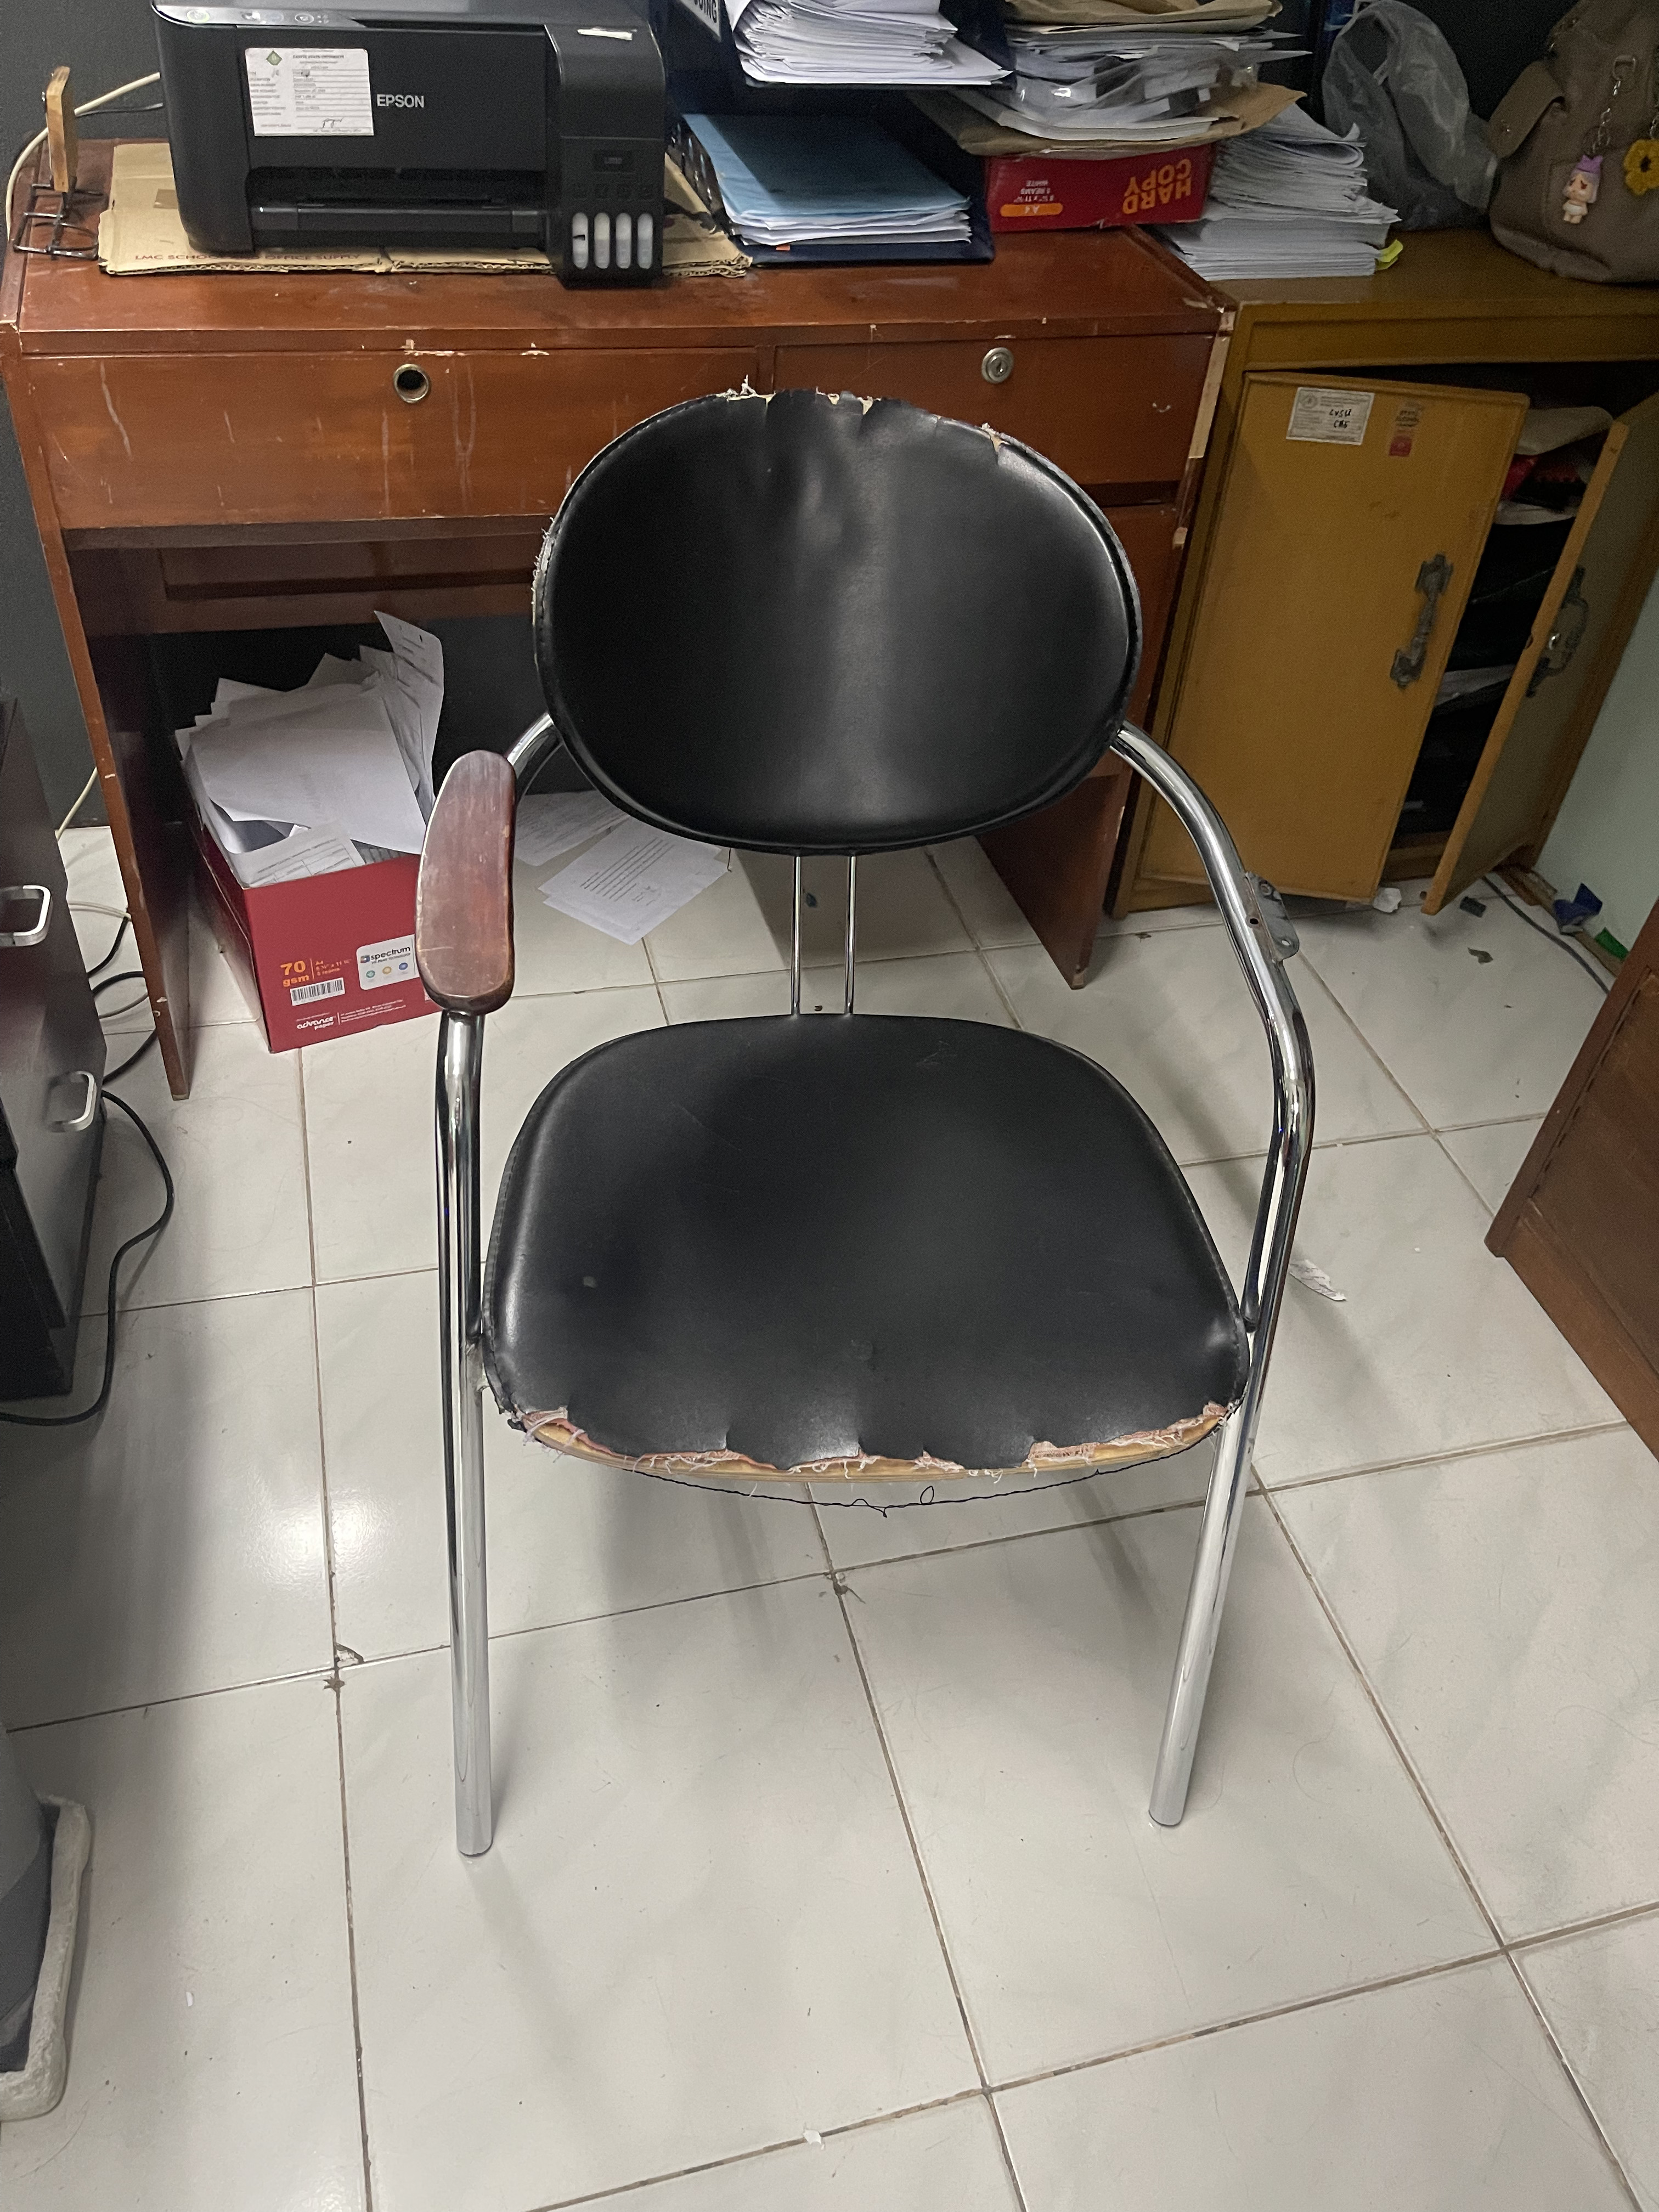chair1: (408, 378, 1321, 1907)
